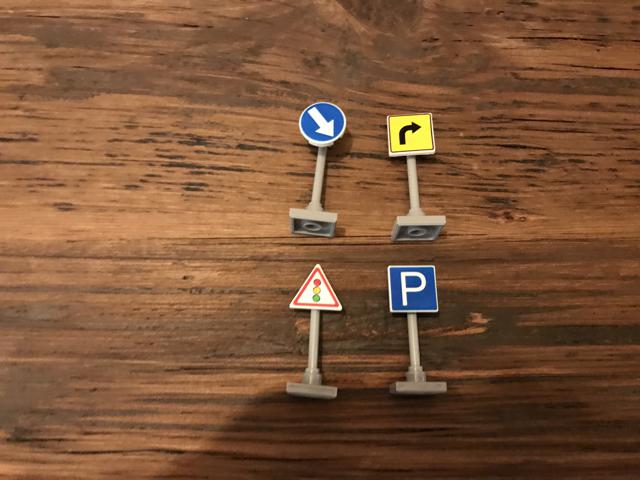fahrtrichtung rechts: (385, 110, 436, 159)
lichtzeichenanlage: (288, 261, 344, 312)
parken: (386, 262, 441, 313)
rechts halten: (298, 101, 348, 147)
